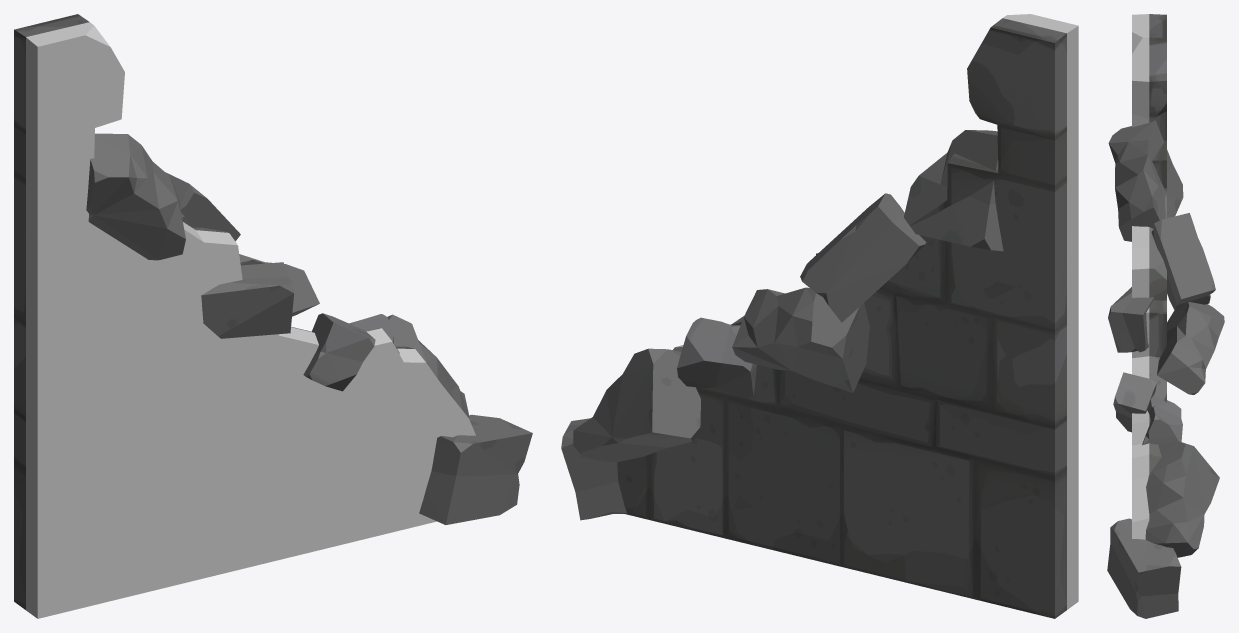
The model's file is SM_Bld_Wall_L_Damaged_02_Alt_01.fbx.
3 views of the same model, side by side, from view 1: azimuth 30°, elevation 25°; view 2: azimuth 150°, elevation 25°; view 3: azimuth 270°, elevation 25° (orthographic). The views are drawn at different scales.
Visible parts, largest first — view 1: SM_Bld_Wall_L_Damaged_02_Alt_01; view 2: SM_Bld_Wall_L_Damaged_02_Alt_01; view 3: SM_Bld_Wall_L_Damaged_02_Alt_01.
Part boxes in pixels (x1,y1,x2,y2): SM_Bld_Wall_L_Damaged_02_Alt_01: (14,14,532,618); SM_Bld_Wall_L_Damaged_02_Alt_01: (561,14,1078,618); SM_Bld_Wall_L_Damaged_02_Alt_01: (1107,14,1224,618).
Size of the model in its own units: 548 by 614 by 151.
